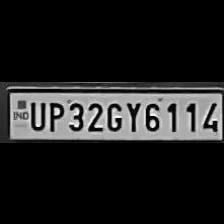1: (162, 98, 180, 132), (180, 98, 198, 132)
2: (84, 98, 104, 132)
3: (64, 97, 84, 130)
4: (198, 97, 220, 131)
6: (140, 98, 162, 132)
G: (104, 98, 124, 132)
P: (44, 98, 64, 132)
U: (26, 98, 44, 130)
Y: (123, 98, 141, 132)
